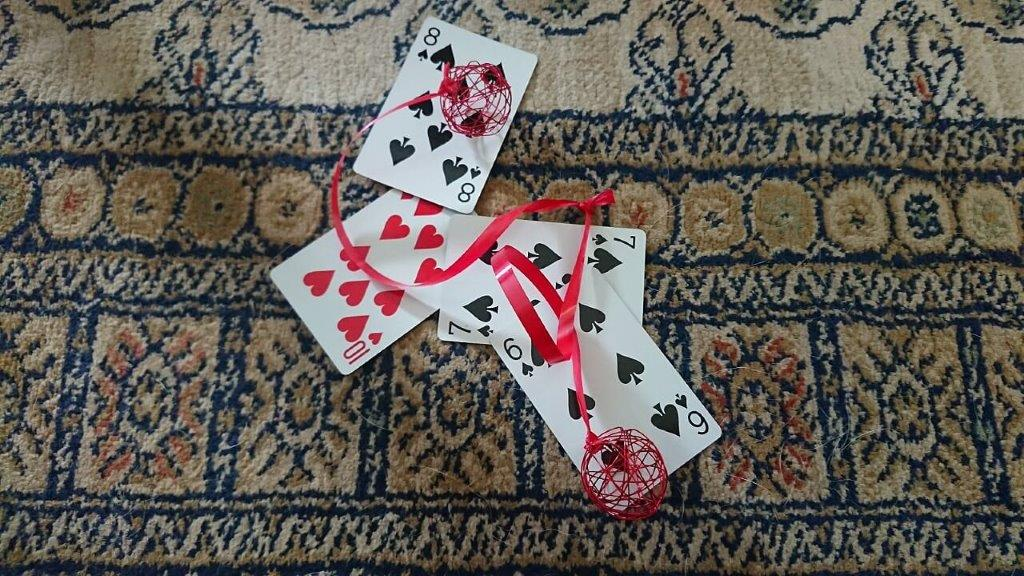6S: (499, 334, 537, 383)
8S: (415, 24, 443, 64)
